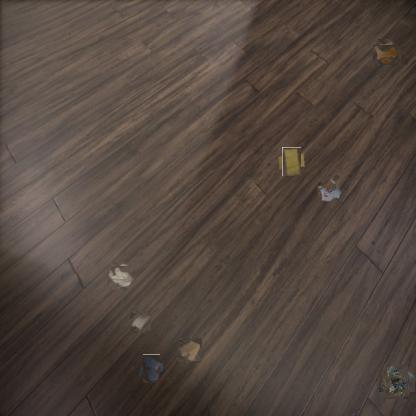dirty: (382, 366, 412, 396), (315, 177, 343, 203), (108, 264, 134, 288), (280, 150, 304, 174), (178, 339, 202, 361), (130, 312, 150, 332)
liquid: (140, 357, 163, 381), (376, 42, 396, 63)
